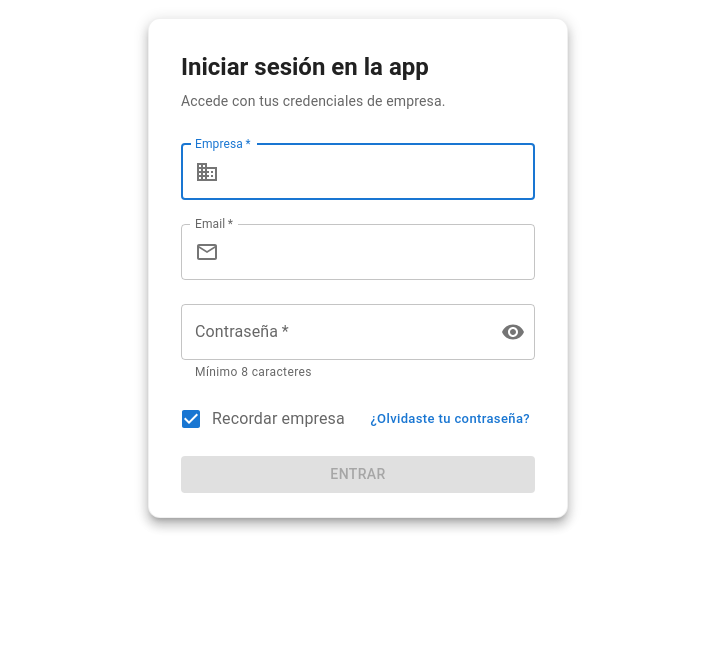
Test case: LoginForm Component › Form Submission - Error Handling › should display error message when account is blocked (403)
The image size is (717, 645).
Type "test-company" into the field labelled "Empresa *" at (381, 172), box [227,144,535,200]
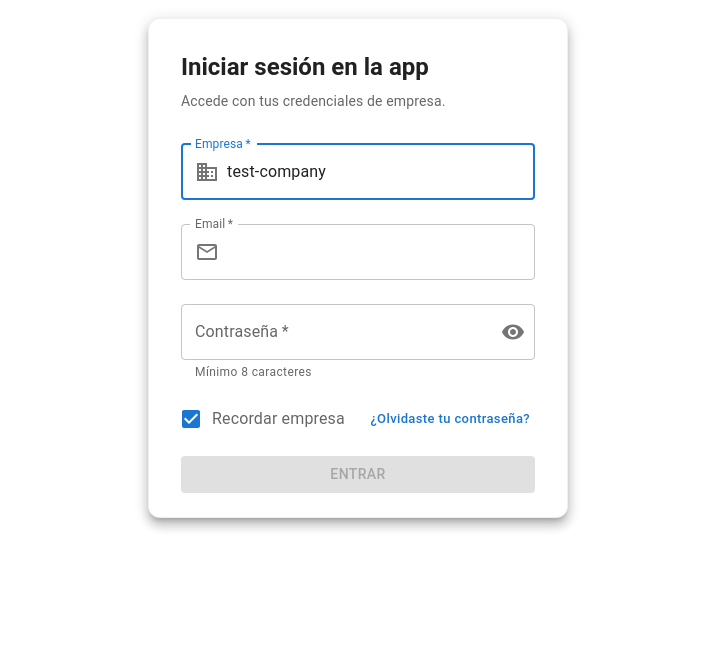
Type "blocked@example.com" into the field labelled "Email *" at (381, 252), box [227,224,535,280]
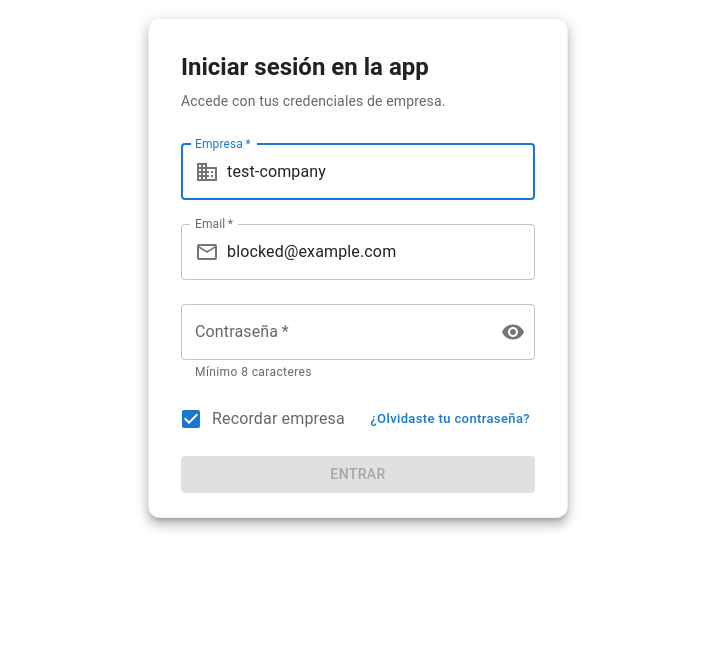
Type "password123" into the password field labelled "Contraseña *" at (333, 332), box [181,304,485,360]
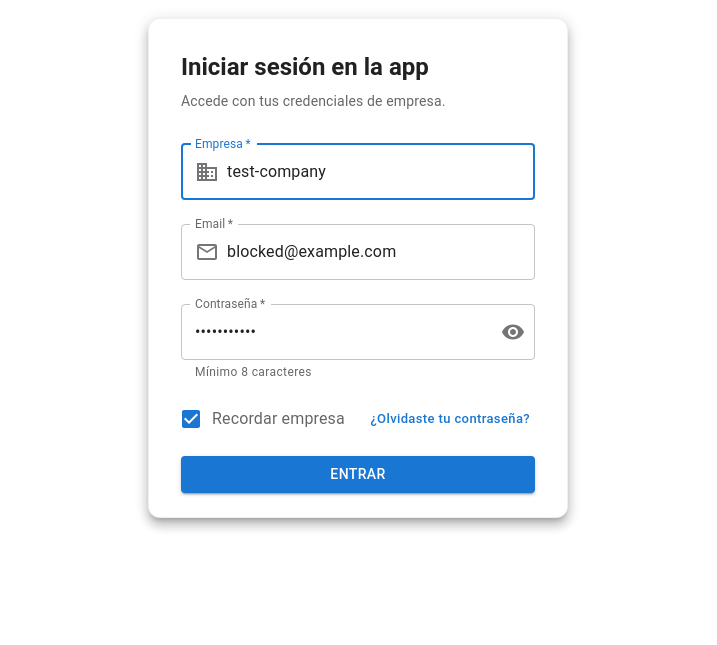
Click the button "Entrar" at (358, 475), box [181,456,535,493]
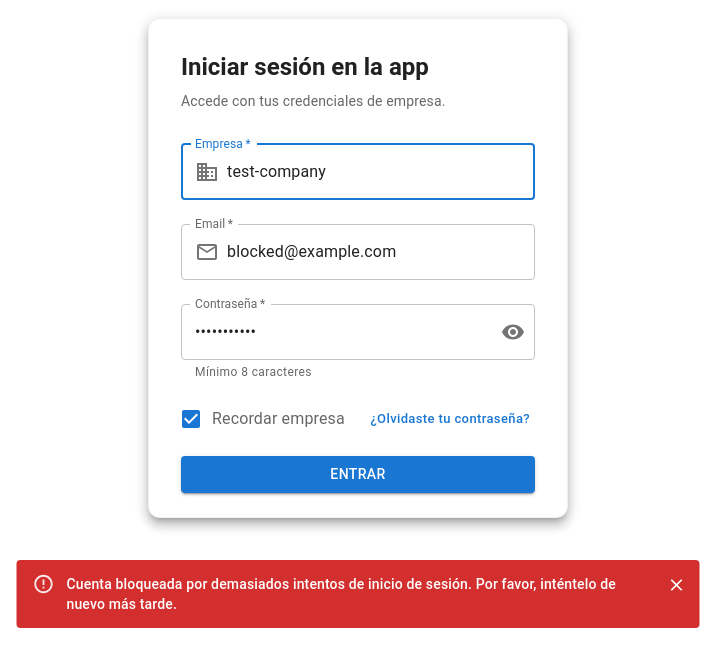
Expected: the text "Cuenta bloqueada" is shown, [66,576,616,612]
